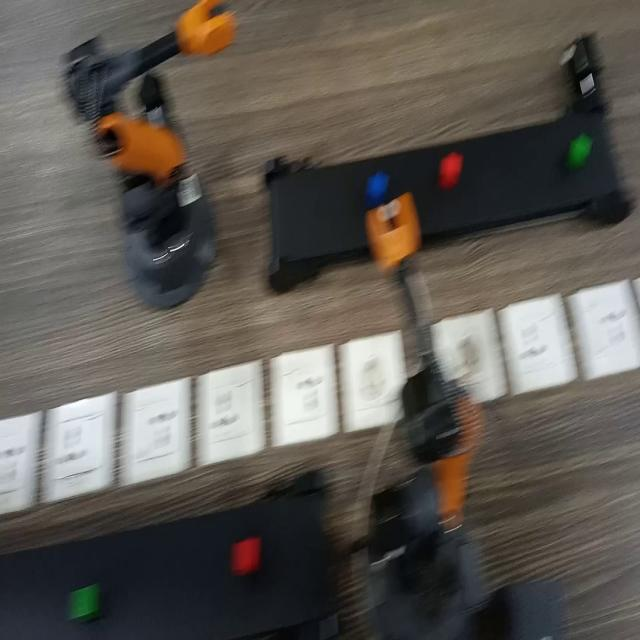cube: (67, 573, 103, 627), (230, 529, 262, 578), (439, 148, 470, 193), (570, 132, 592, 176), (367, 167, 392, 203)
